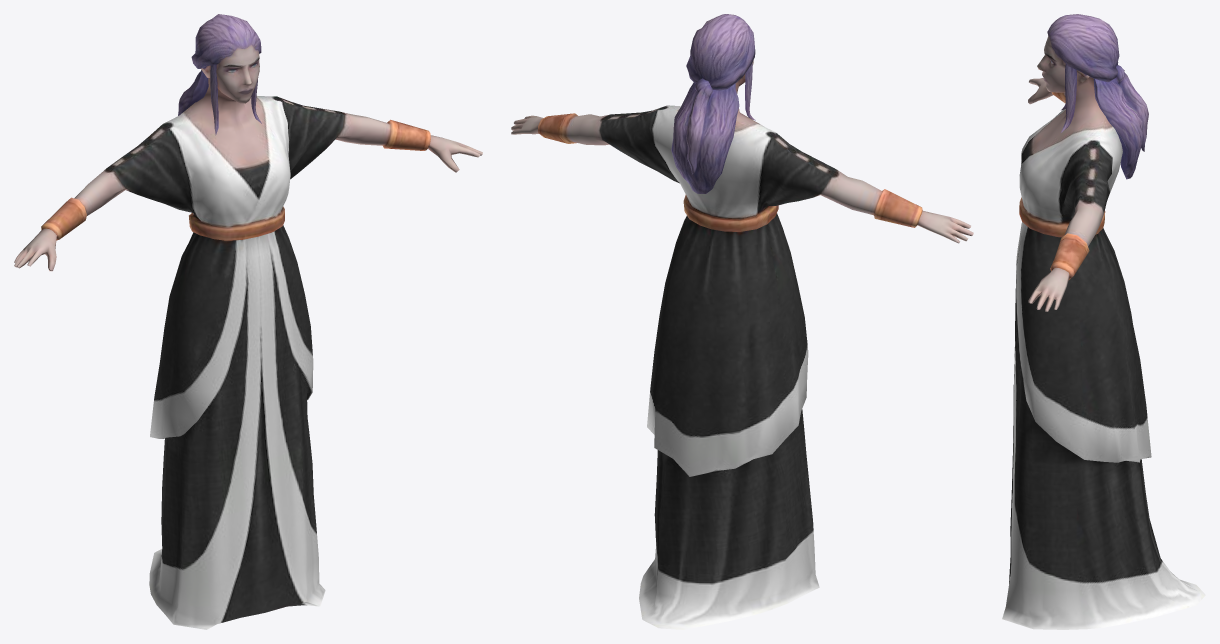
The model's file is 109-lampades.glb.
The picture shows the model from 3 angles, left to right: view 1: azimuth 30°, elevation 25°; view 2: azimuth 150°, elevation 25°; view 3: azimuth 270°, elevation 25°; orthographic projection. The views are drawn at different scales.
Size of the model in its own units: 1.83 by 2.16 by 0.689.
1 material, 1 textured.
